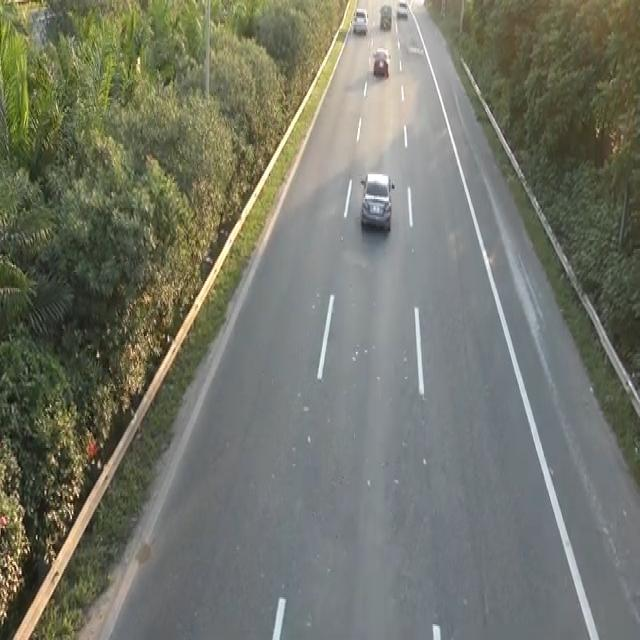bus: (357, 167, 397, 240), (370, 46, 390, 78)
